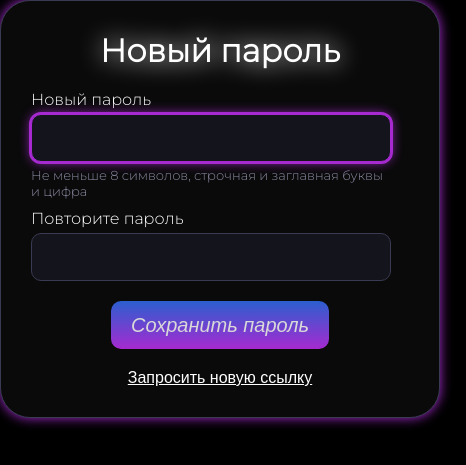
Test: ResetPasswordForm › saves the new password with the token from the link
Type "White2Rabbit" into the password field labelled "Новый пароль" at x=211, y=138, box [31,114,391,162]
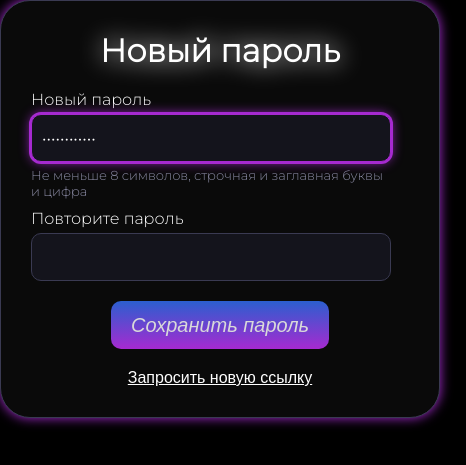
Type "White2Rabbi" into the password field labelled "Повторите пароль" at x=211, y=257, box [31,233,391,281]
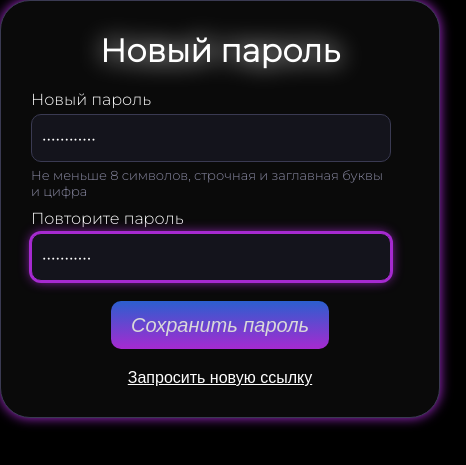
Click the button "Сохранить пароль" at x=220, y=325, box [111,301,329,349]
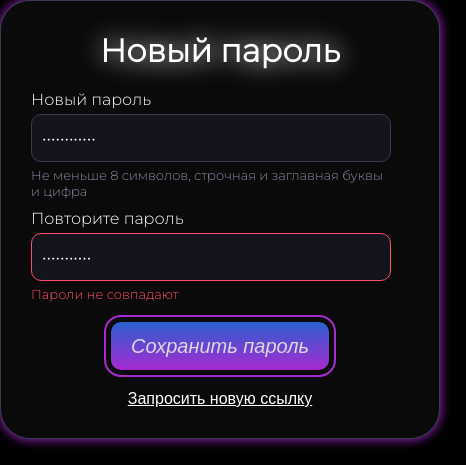
Now the text "Пароли не совпадают" is shown, box [31,286,179,302]
Type "t" into the password field labelled "Повторите пароль" at x=211, y=257, box [31,233,391,281]
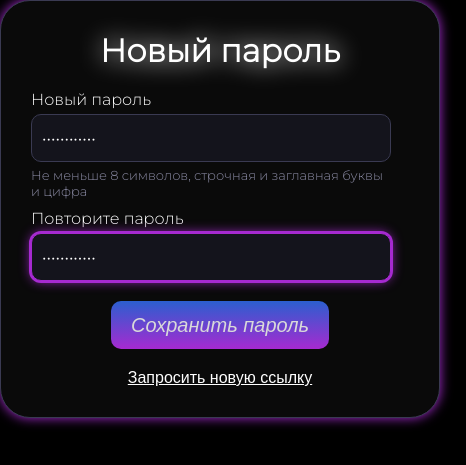
Click the button "Сохранить пароль" at x=220, y=325, box [111,301,329,349]
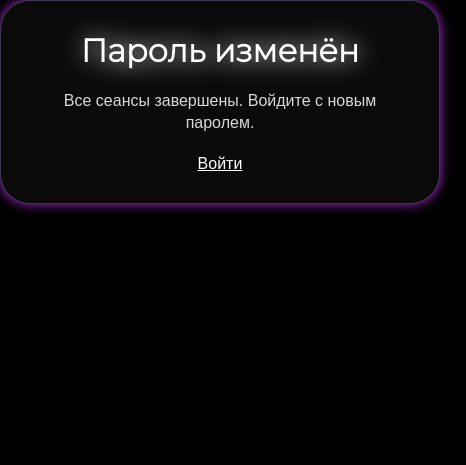
Now the heading "Пароль изменён" is shown, box [81,31,359,70]
